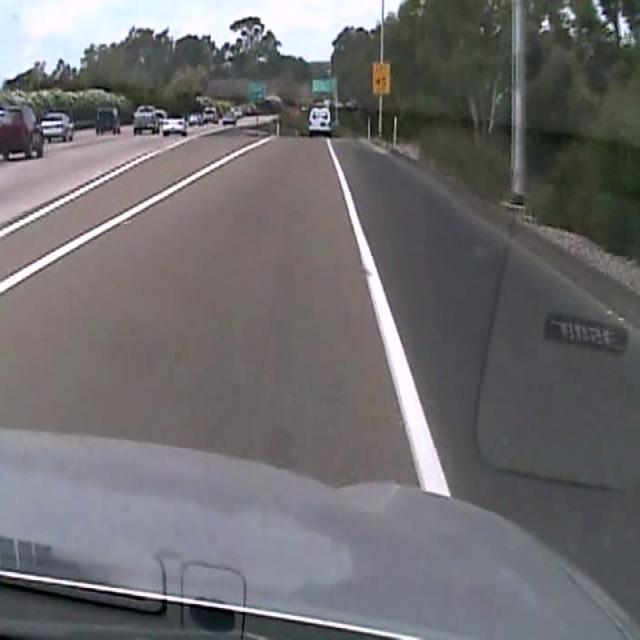speedLimit45: (371, 61, 391, 96)
